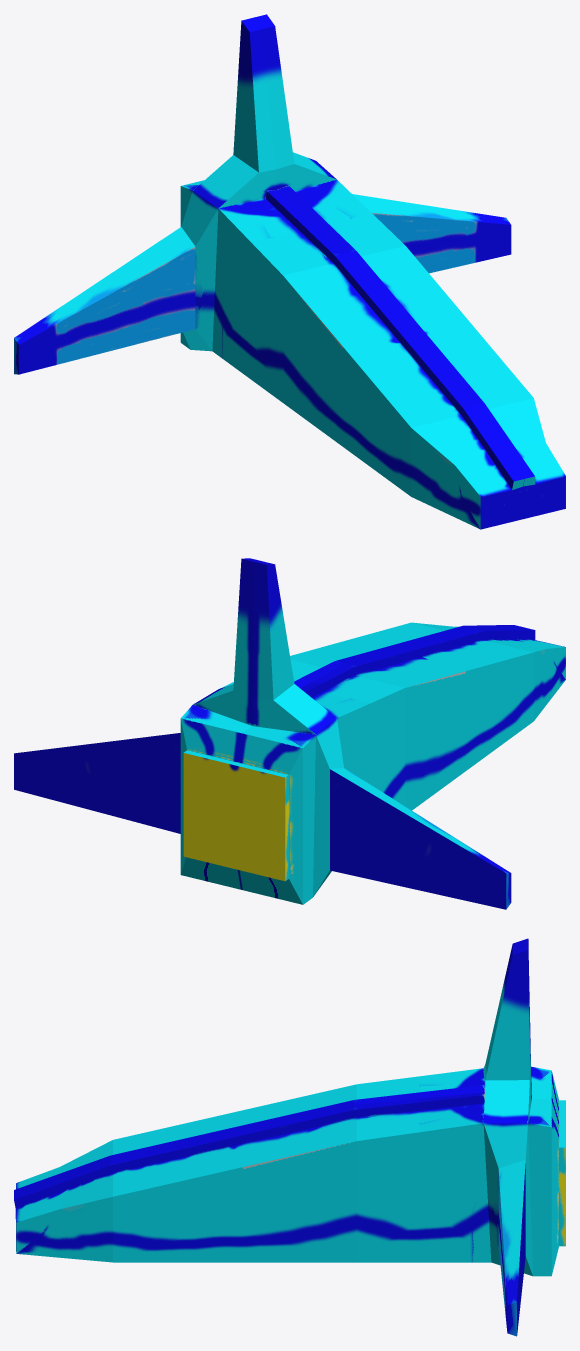
File: Player.fbx
3 renders of one model, top to bottom at view 1: azimuth 30°, elevation 25°; view 2: azimuth 150°, elevation 25°; view 3: azimuth 270°, elevation 25°, orthographic. The views are drawn at different scales.
Parts seen in each view (by area): view 1: Cube; view 2: Cube; view 3: Cube.
Part boxes in pixels (x1=…): Cube: x1=14, y1=14, x2=565, y2=529; Cube: x1=14, y1=558, x2=565, y2=909; Cube: x1=14, y1=938, x2=565, y2=1336.
Bounding box in the file's own units: 804 × 498 × 820.
1 material, 1 textured.
